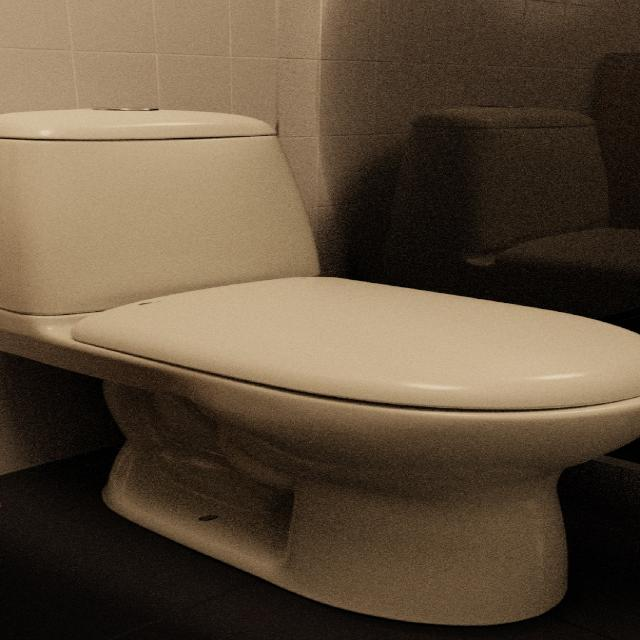toilet: (5, 100, 640, 632)
